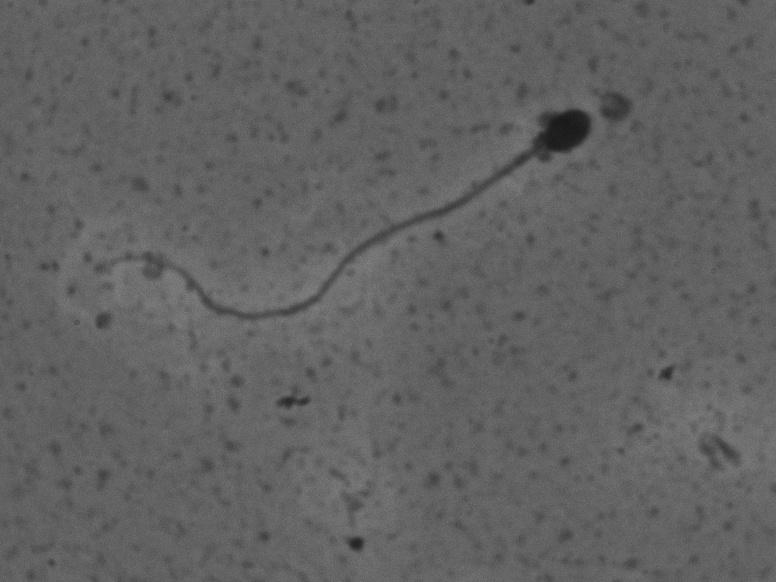Normal: (89, 69, 598, 355)
